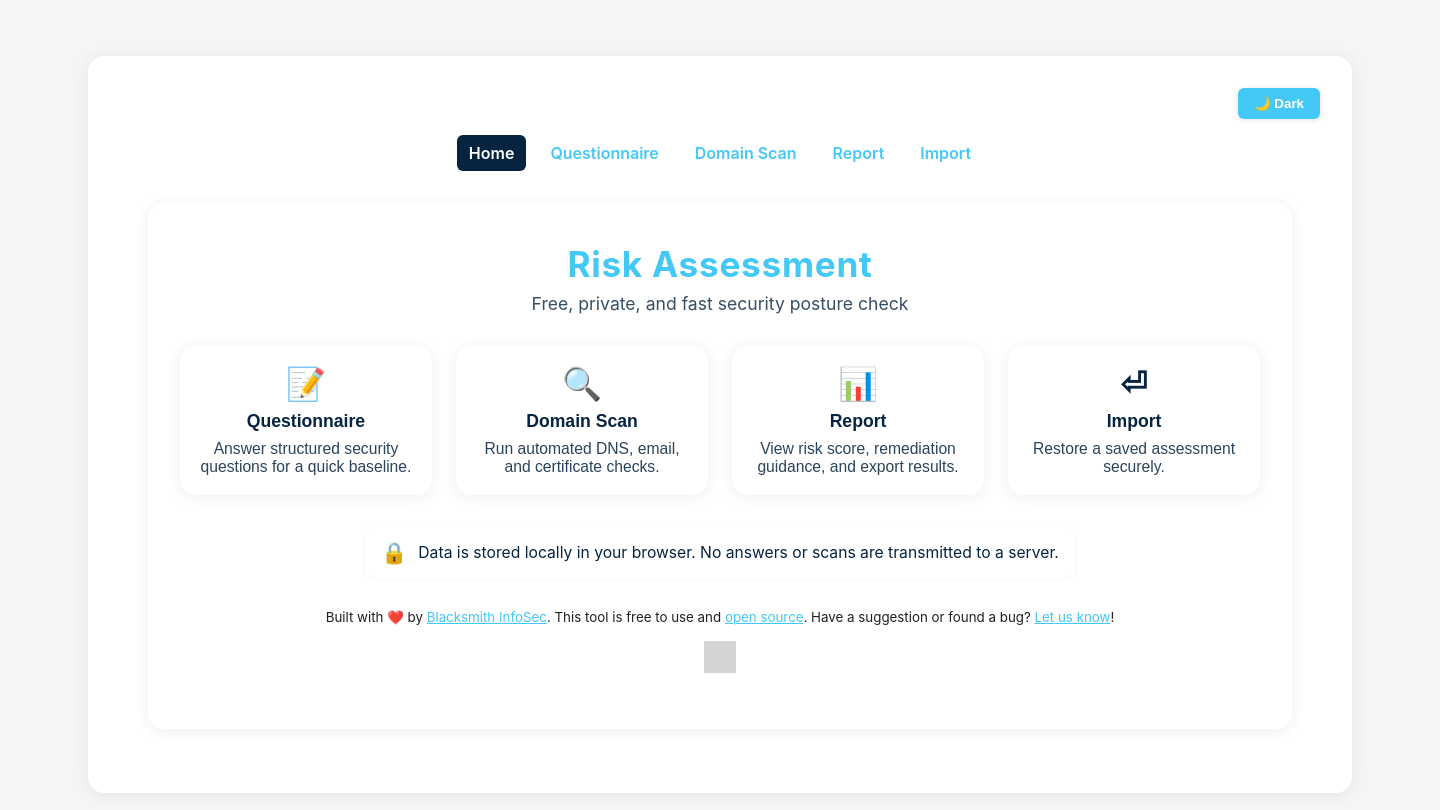
App - Reset Functionality › Dark Mode Toggle › toggles to dark mode when clicked
Step 1. Click the button "🌙 Dark" → (1279, 104), box [1238,88,1320,119]
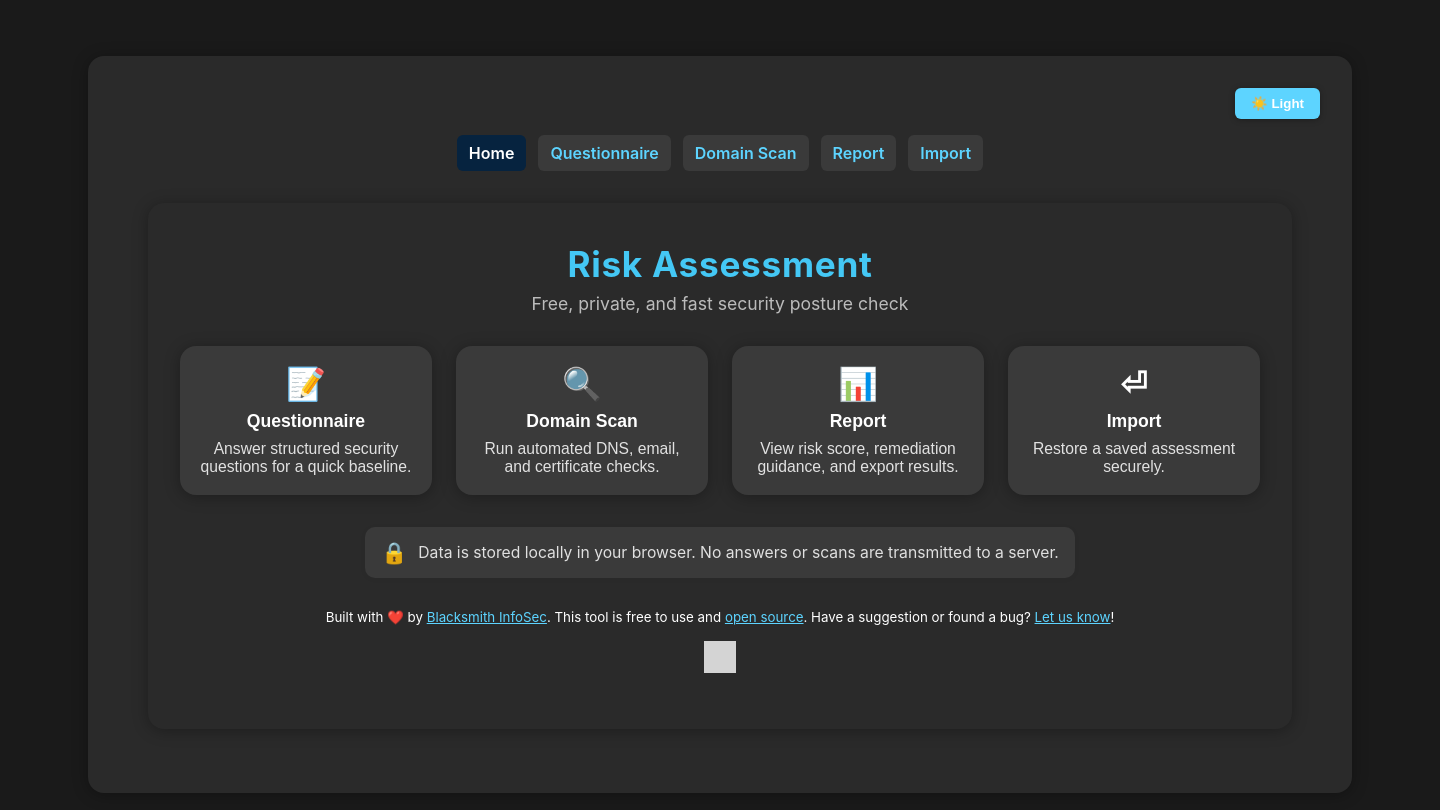
Expected: the button "☀️ Light" is shown, [1235,88,1320,119]
